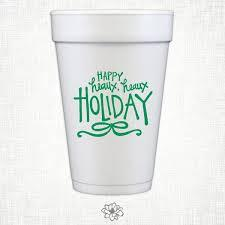Plastic cup: (39, 5, 188, 203)
